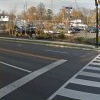crosswalk: (47, 53, 99, 100)
